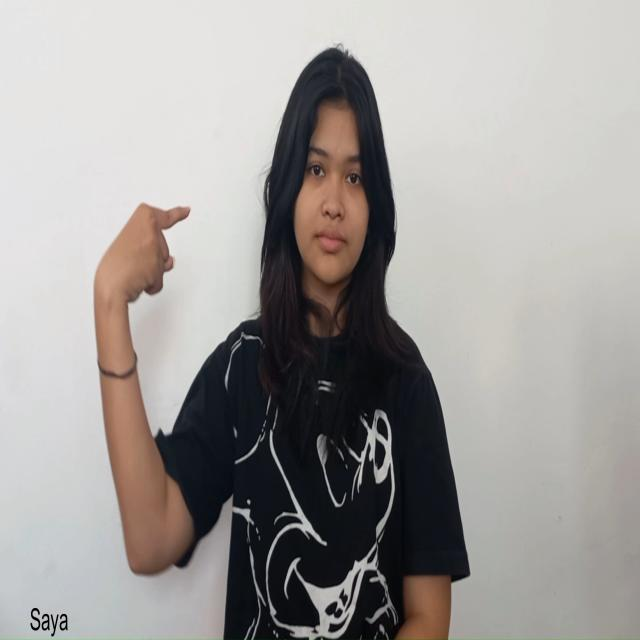Saya -BISINDO-: (92, 197, 194, 350)
